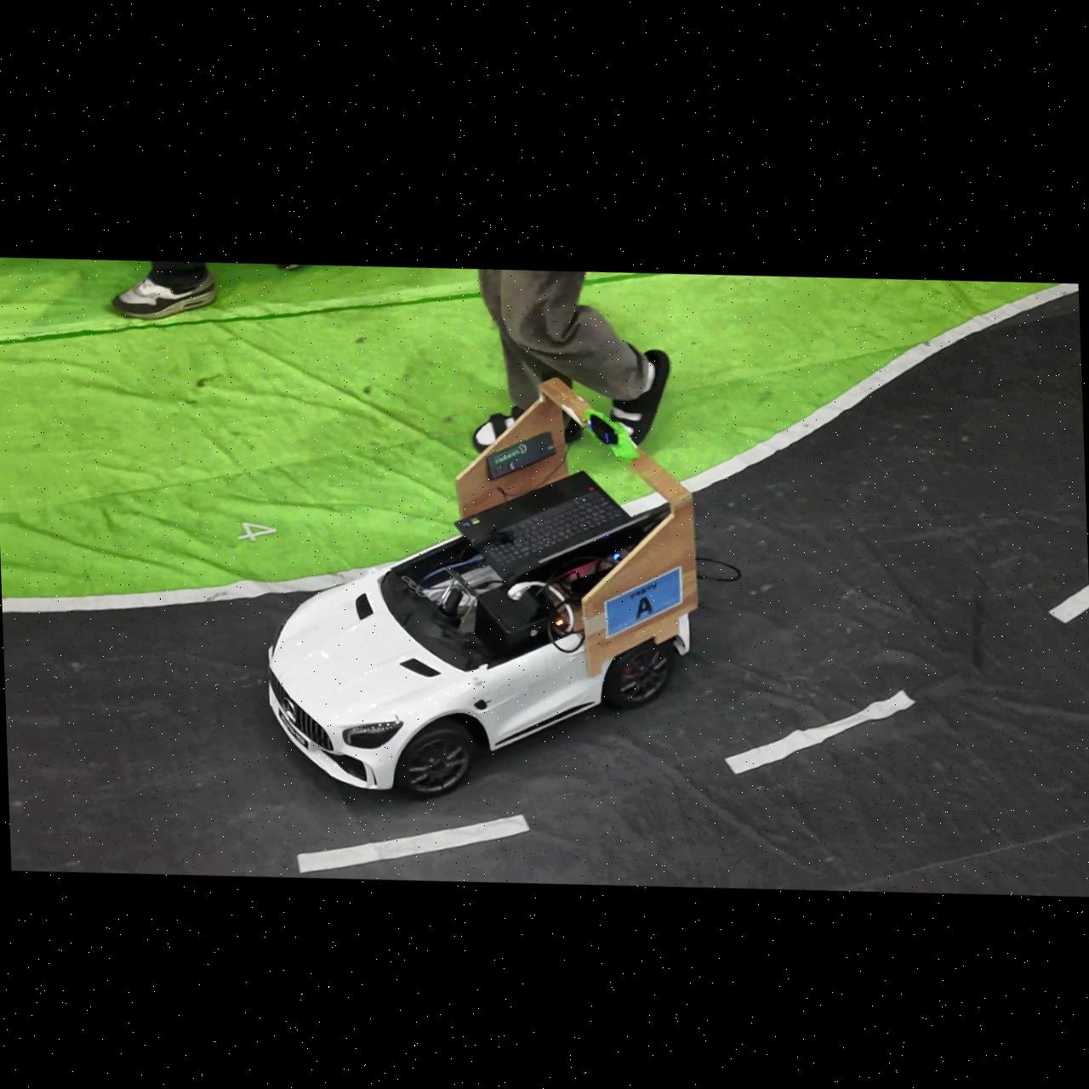broken_line: (724, 690, 916, 774), (297, 814, 530, 872), (1047, 585, 1089, 623)
